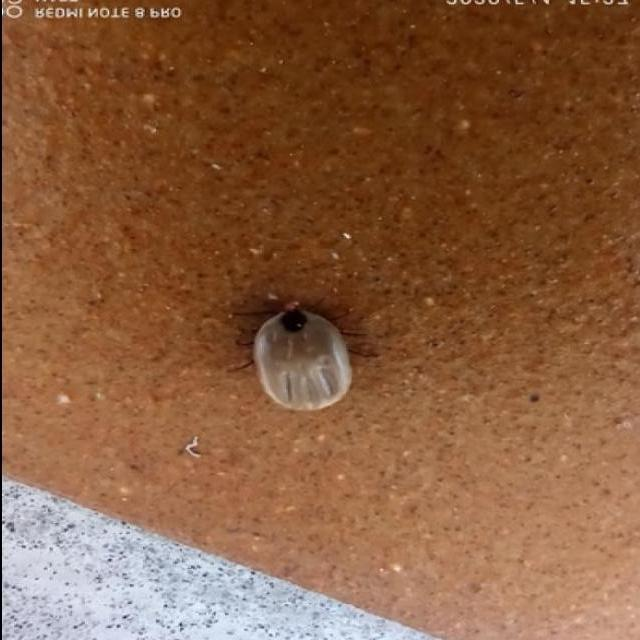Rhipicephalus Sanguineus-F-Fed: (249, 304, 353, 411)
